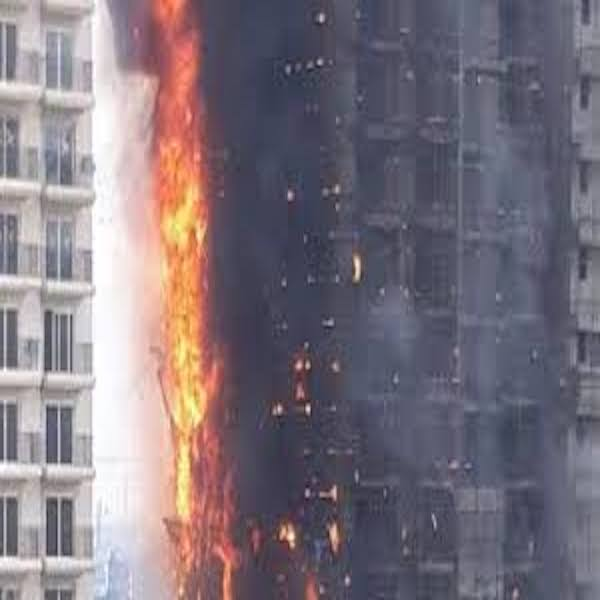fire: (144, 1, 287, 561)
